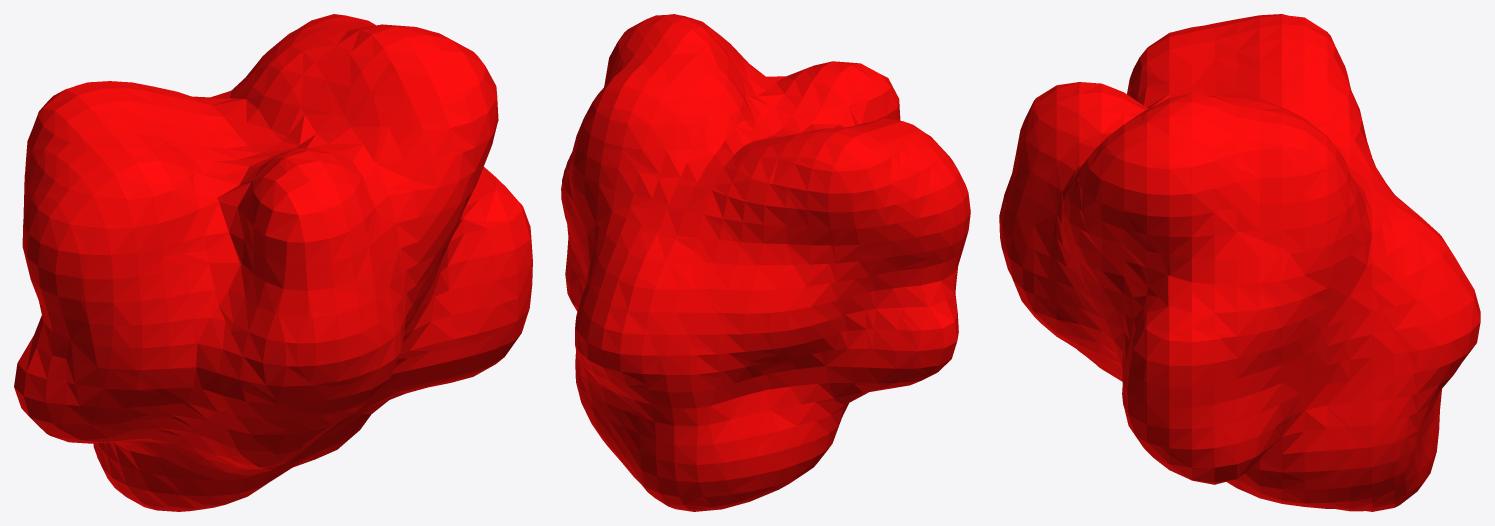
File: prlF_coarse.dae
The picture shows the model from 3 angles, left to right: view 1: azimuth 30°, elevation 25°; view 2: azimuth 150°, elevation 25°; view 3: azimuth 270°, elevation 25°; orthographic projection. The views are drawn at different scales.
Parts seen in each view (by area): view 1: prlF; view 2: prlF; view 3: prlF.
Part boxes in pixels (x1=…): prlF: x1=14, y1=14, x2=532, y2=511; prlF: x1=561, y1=14, x2=970, y2=511; prlF: x1=999, y1=14, x2=1480, y2=511.
Size of the model in its own units: 40.15 by 38.76 by 37.
